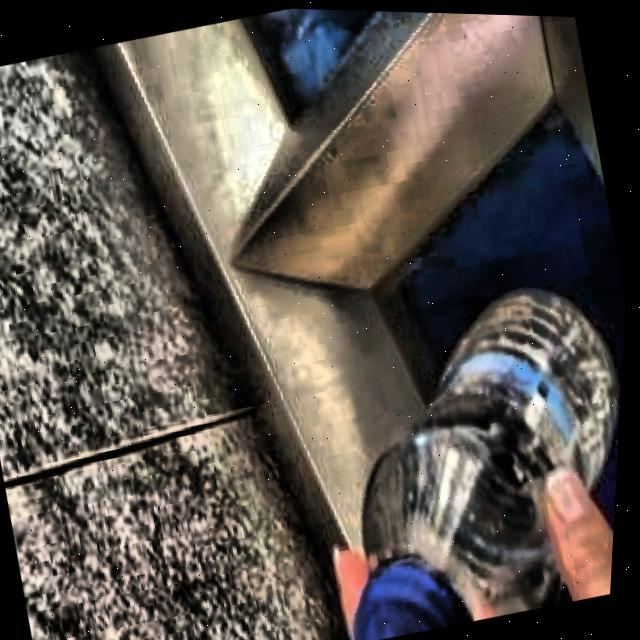plastic: (360, 284, 623, 640)
